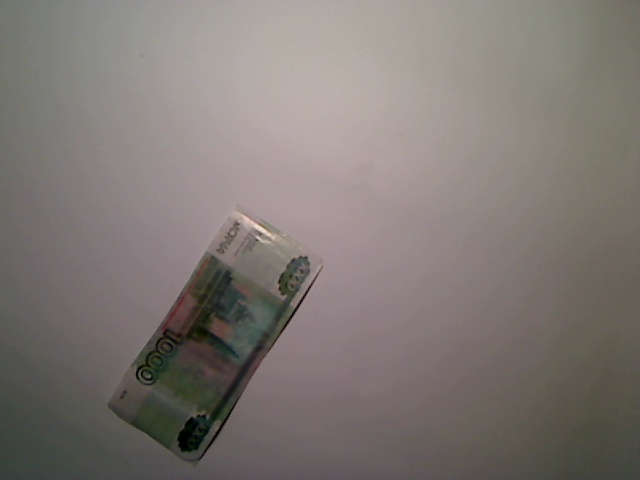banknotes: (103, 198, 329, 469)
